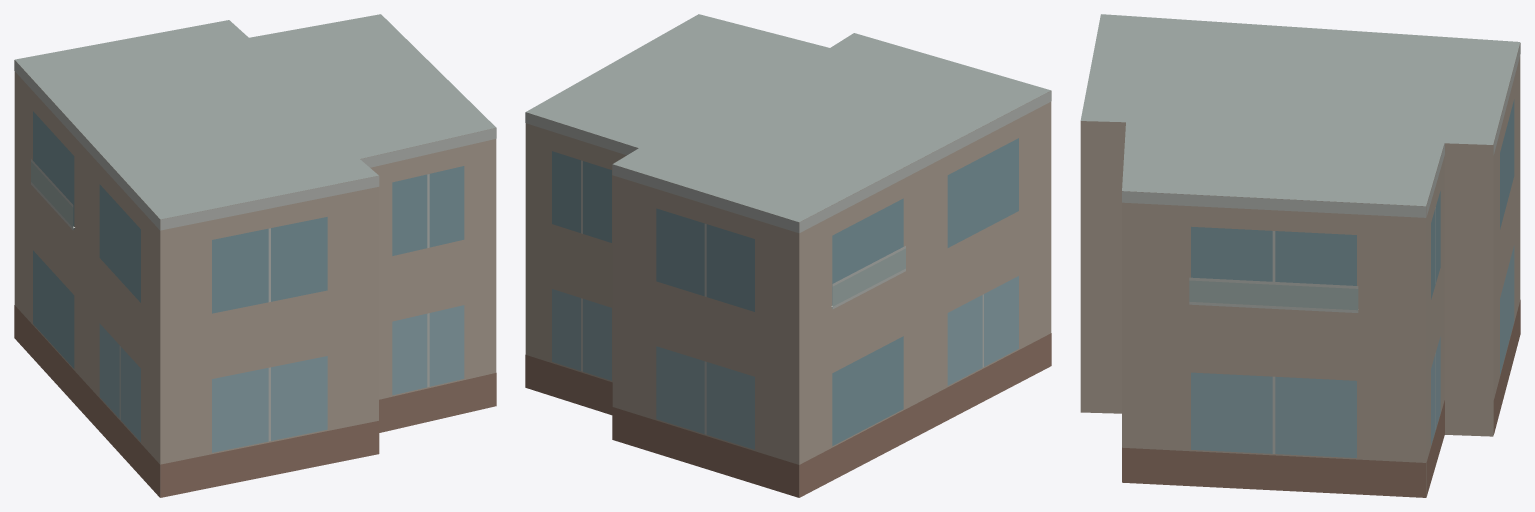
The model's file is survey-upis-32788774.glb.
3 views of the same model, side by side, from view 1: azimuth 30°, elevation 25°; view 2: azimuth 150°, elevation 25°; view 3: azimuth 270°, elevation 25° (orthographic). The views are drawn at different scales.
Visible parts, largest first — view 1: survey-upis-32788774.tmp; view 2: survey-upis-32788774.tmp; view 3: survey-upis-32788774.tmp.
Part boxes in pixels (x1,y1,x2,y2): survey-upis-32788774.tmp: (14, 14, 496, 497); survey-upis-32788774.tmp: (525, 14, 1051, 497); survey-upis-32788774.tmp: (1080, 14, 1520, 497).
Bounding box in the file's own units: 8.63 × 6.1 × 8.35.
